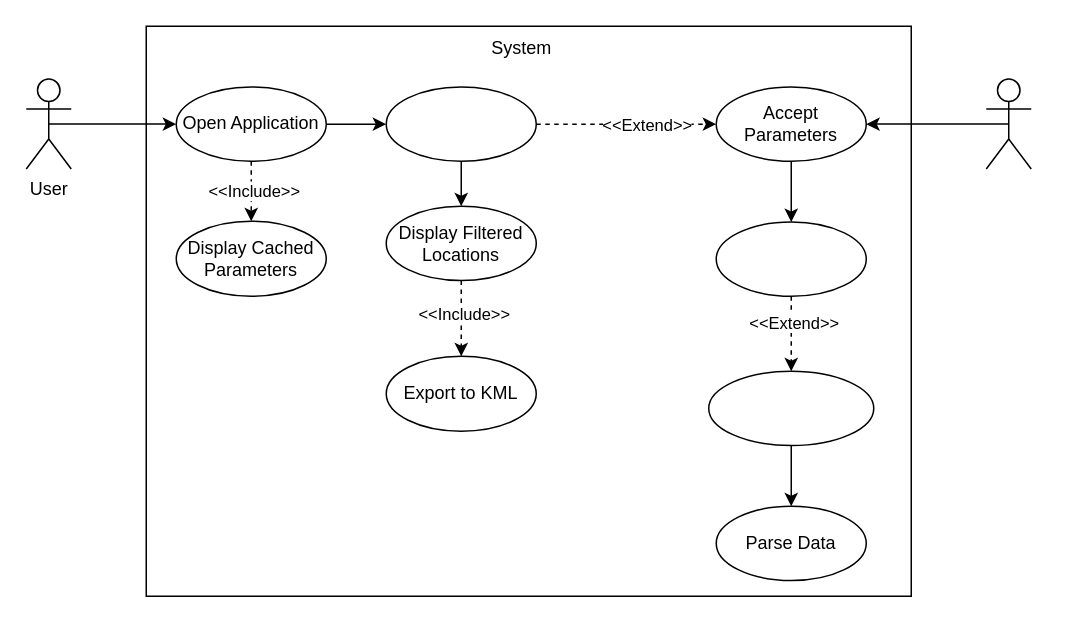
Image size: 1076x623. Some labels were removed from this diagram. Here are the shapes that lost their labels. From the top down, the centre of each, then its label:
[460,123]: Input Parameters
[1008,123]: Data Filter
[790,258]: Filter Locations
[790,408]: Fetch Necessary Data
